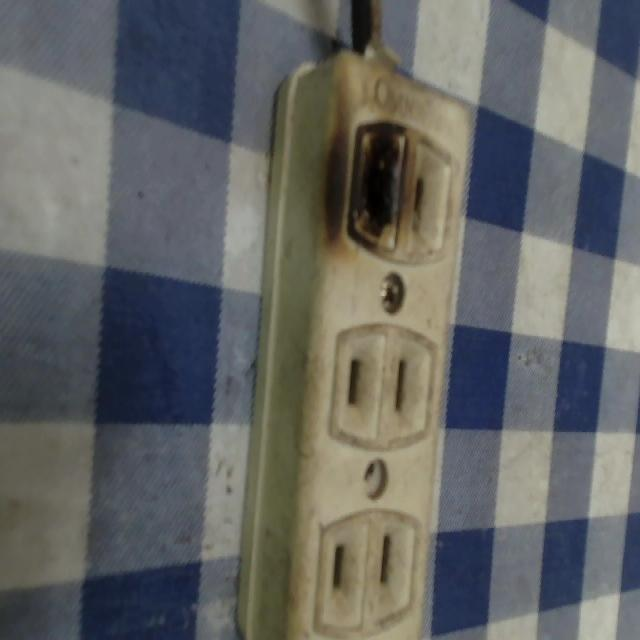-: (337, 107, 417, 265)
